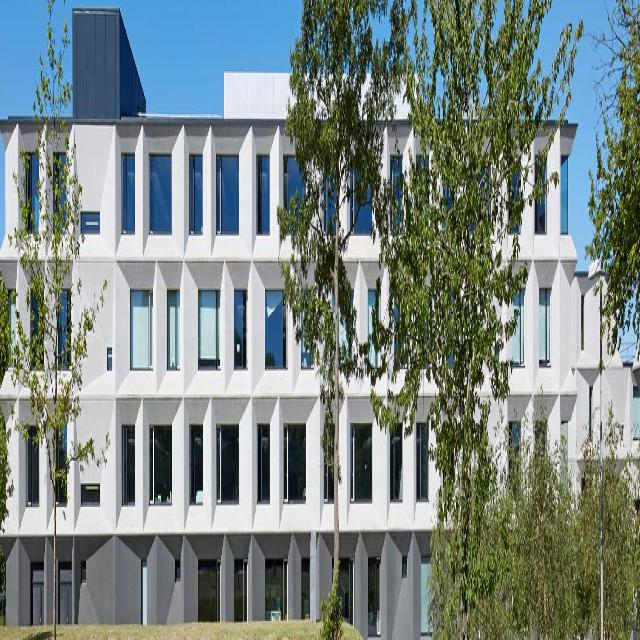window: (148, 155, 172, 236), (214, 156, 238, 236), (348, 423, 372, 503), (215, 425, 238, 506), (131, 288, 153, 370), (283, 426, 305, 507), (263, 291, 285, 369), (148, 428, 170, 506), (263, 559, 287, 630), (196, 558, 220, 626), (198, 290, 218, 371), (119, 155, 133, 237), (255, 157, 269, 237), (255, 428, 269, 505), (189, 153, 202, 235), (121, 427, 134, 509), (338, 561, 353, 630), (167, 289, 179, 375), (388, 424, 401, 502), (540, 289, 552, 369), (233, 562, 247, 630), (234, 293, 246, 371), (190, 427, 202, 505), (367, 557, 379, 630), (25, 445, 38, 506), (415, 424, 425, 503), (299, 559, 309, 627), (79, 480, 99, 505), (141, 558, 147, 626), (581, 299, 584, 349), (174, 559, 179, 581), (402, 559, 406, 575), (589, 388, 592, 408)
